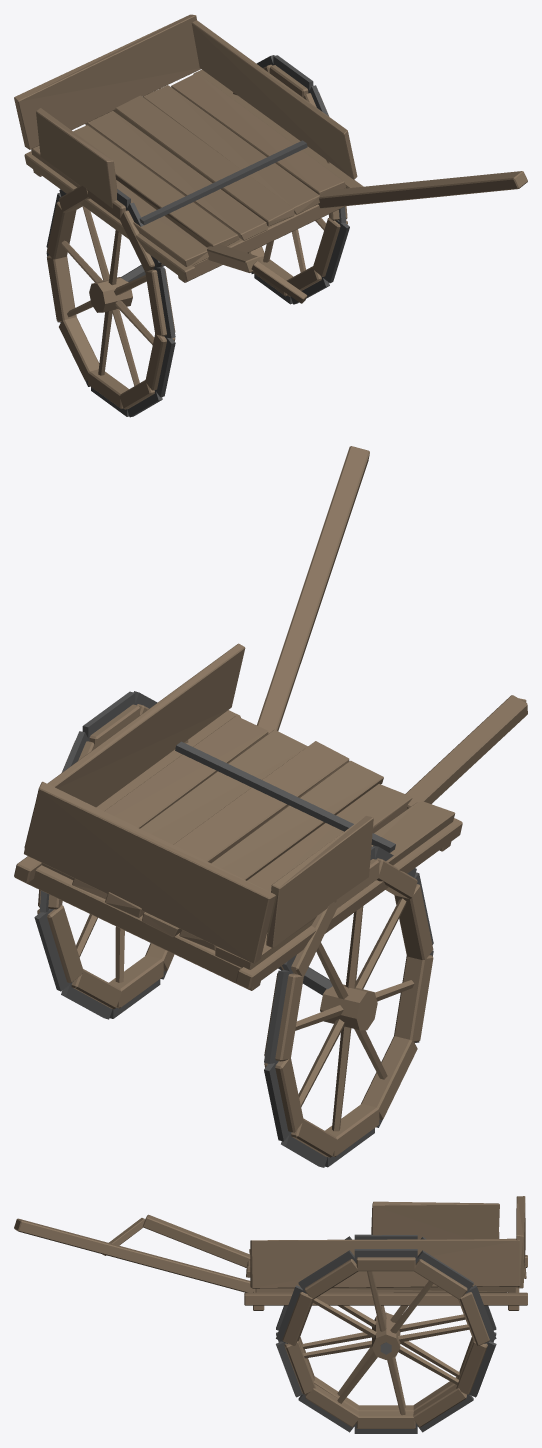
Rendered from sunken_cart.glb.
3 views of the same model, one above another, from view 1: azimuth 30°, elevation 25°; view 2: azimuth 150°, elevation 25°; view 3: azimuth 270°, elevation 25° (orthographic). The views are drawn at different scales.
Visible parts, largest first — view 1: wood, iron; view 2: wood, iron; view 3: wood, iron.
Part boxes in pixels (x1=…): wood: x1=14, y1=14, x2=527, y2=409; iron: x1=46, y1=55, x2=349, y2=417; wood: x1=14, y1=446, x2=527, y2=1157; iron: x1=34, y1=691, x2=433, y2=1167; wood: x1=14, y1=1196, x2=527, y2=1428; iron: x1=276, y1=1234, x2=496, y2=1433.
Bounding box in the file's own units: 1.63 × 2.29 × 3.62.
